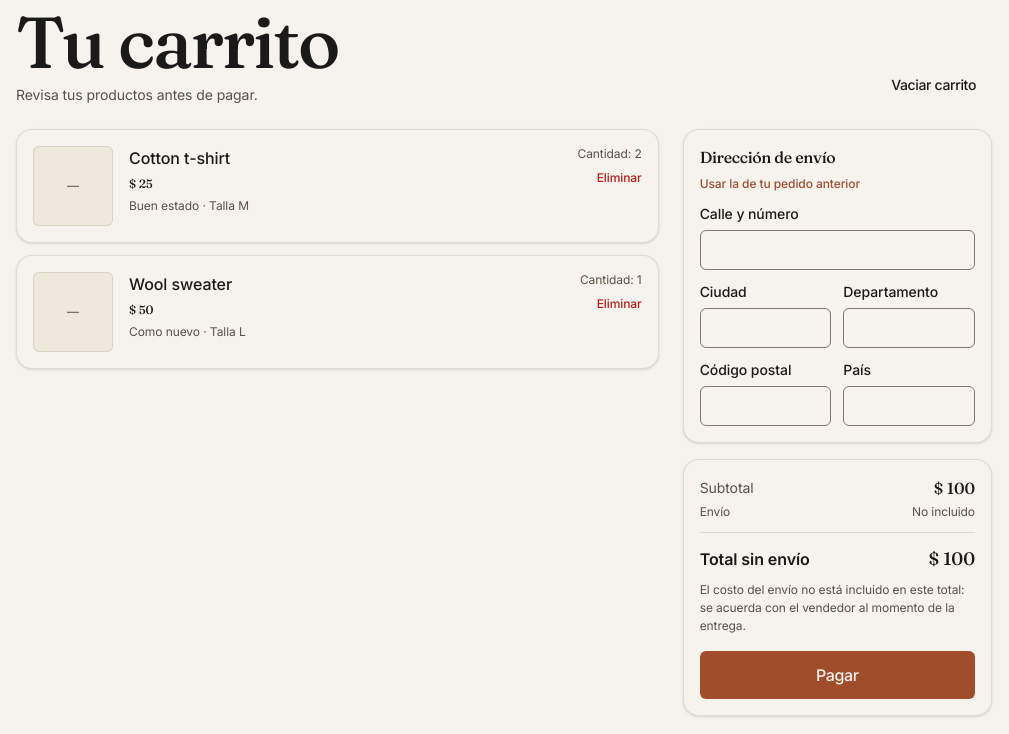
Scenario: CartPage › rellena la dirección con la del pedido anterior al hacer click en el acceso rápido
Click the button "Usar la de tu pedido anterior" at {"x": 780, "y": 184}, box [700,176,860,192]
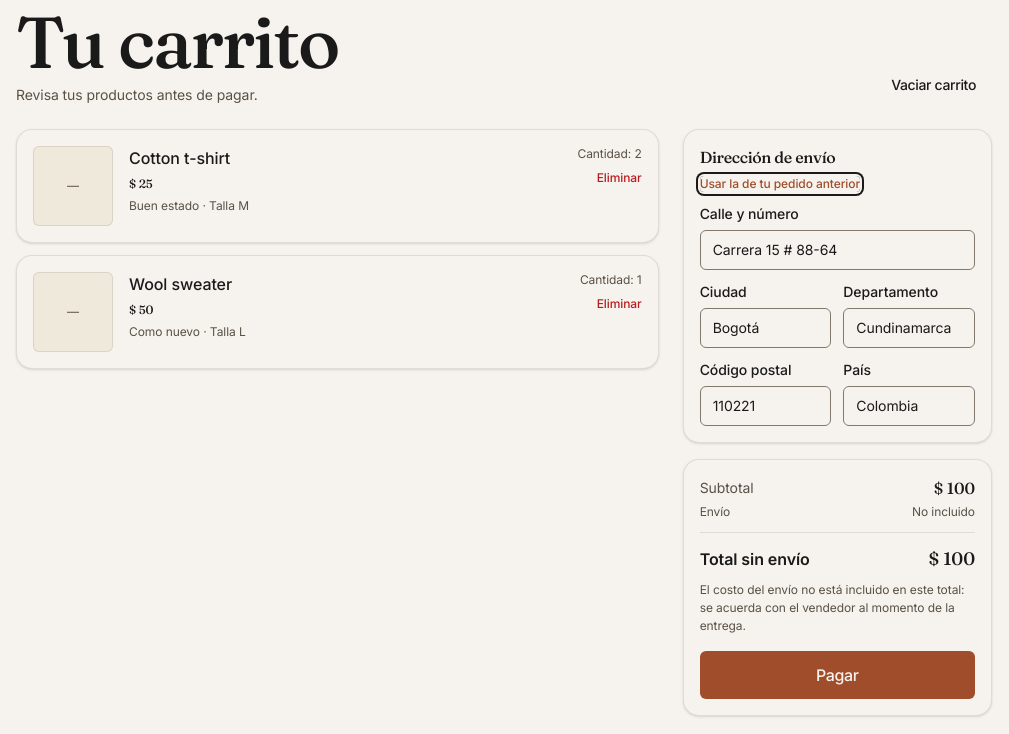
Result: the field labelled "Calle y número" holds "Carrera 15 # 88-64" at [700,230,975,270]
Result: the field labelled "Ciudad" holds "Bogotá" at [700,308,831,348]
Result: the field labelled "Departamento" holds "Cundinamarca" at [843,308,975,348]
